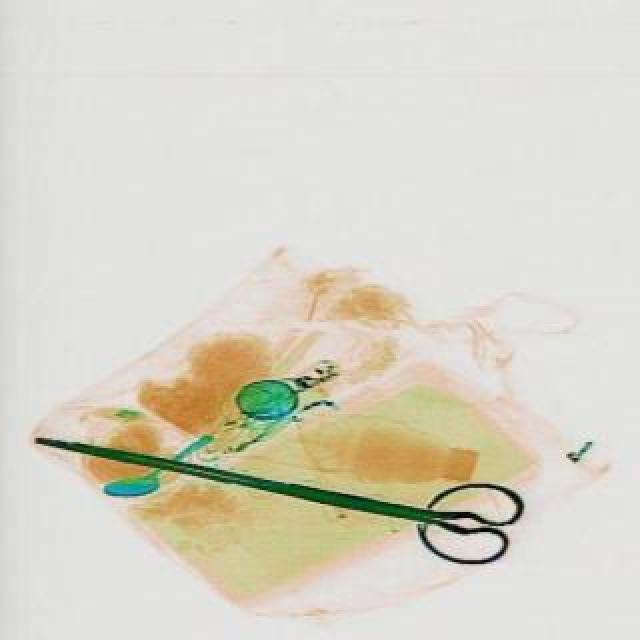pliers: (22, 400, 522, 570)
